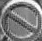No waiting: (1, 1, 37, 37)
